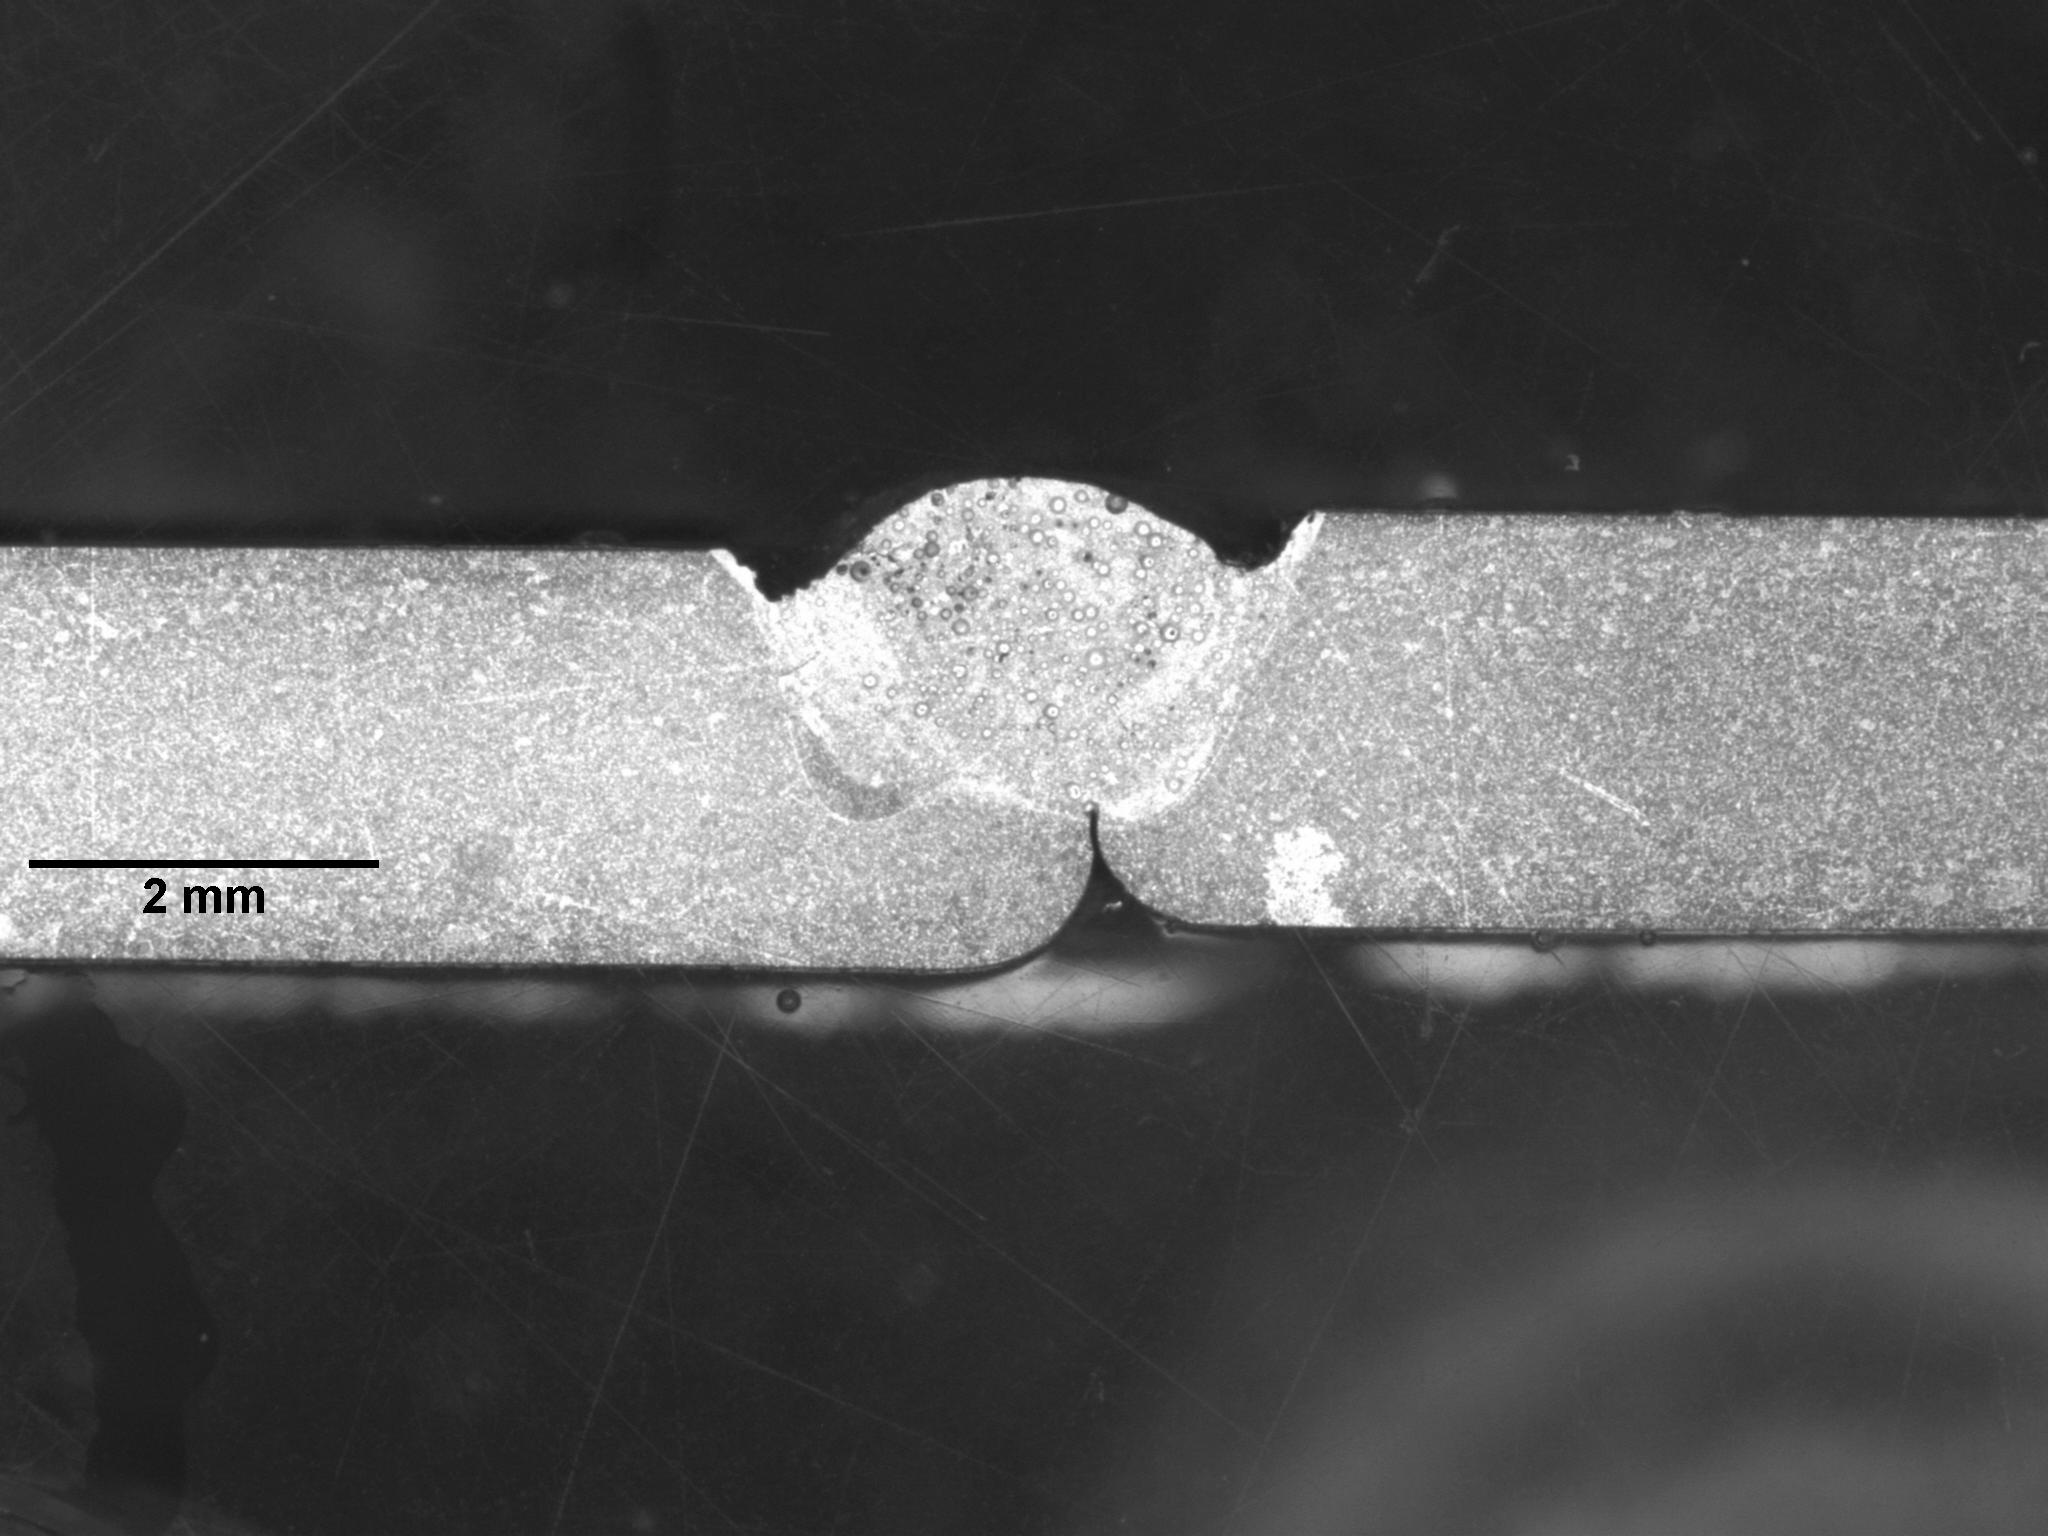Scale-bar: (19, 849, 385, 920)
